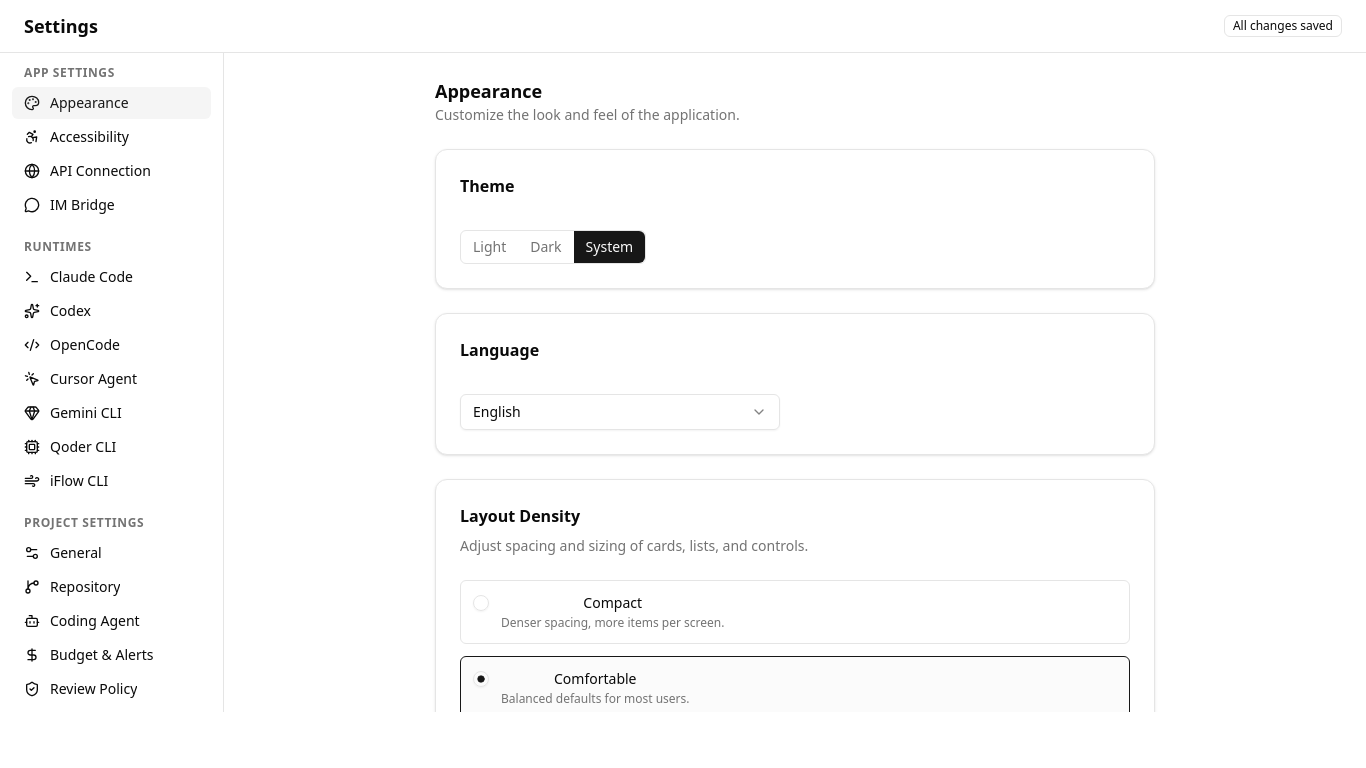
it: SettingsPage › blocks invalid threshold saves with validation feedback
Click the button "Budget & Alerts" at (112, 655), box [12,639,211,671]
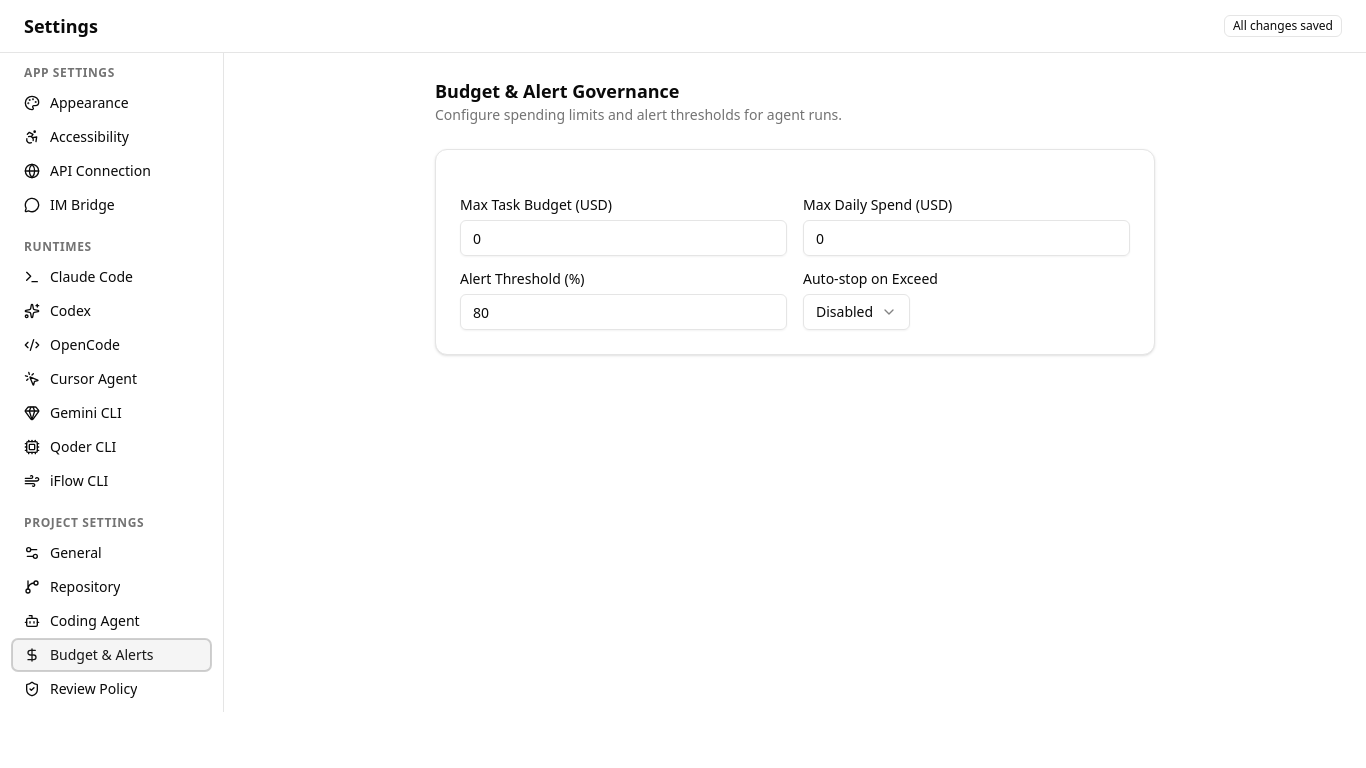
Replace the text in the number field labelled "Alert Threshold (%)" with "101" at (624, 312), box [460,294,787,330]
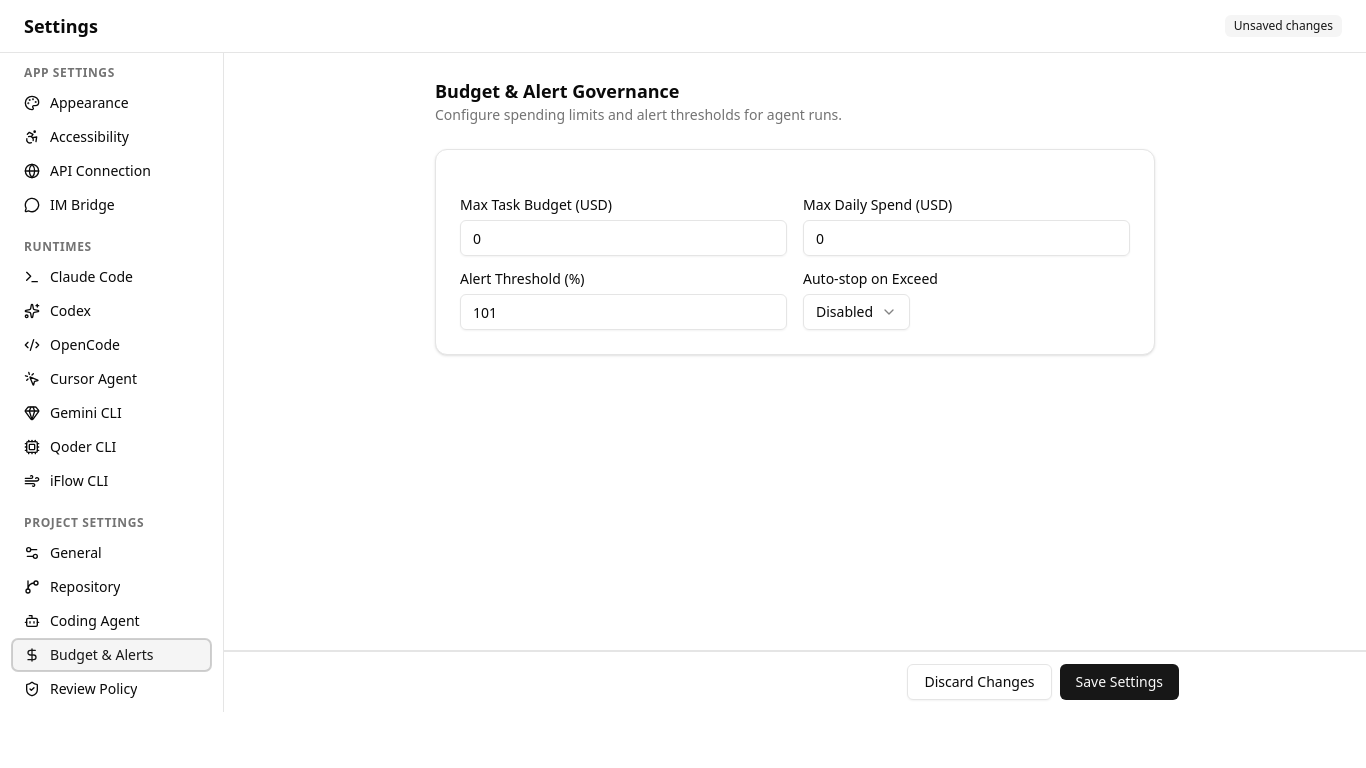
Click the button "Save Settings" at (1119, 682), box [1060,664,1179,700]
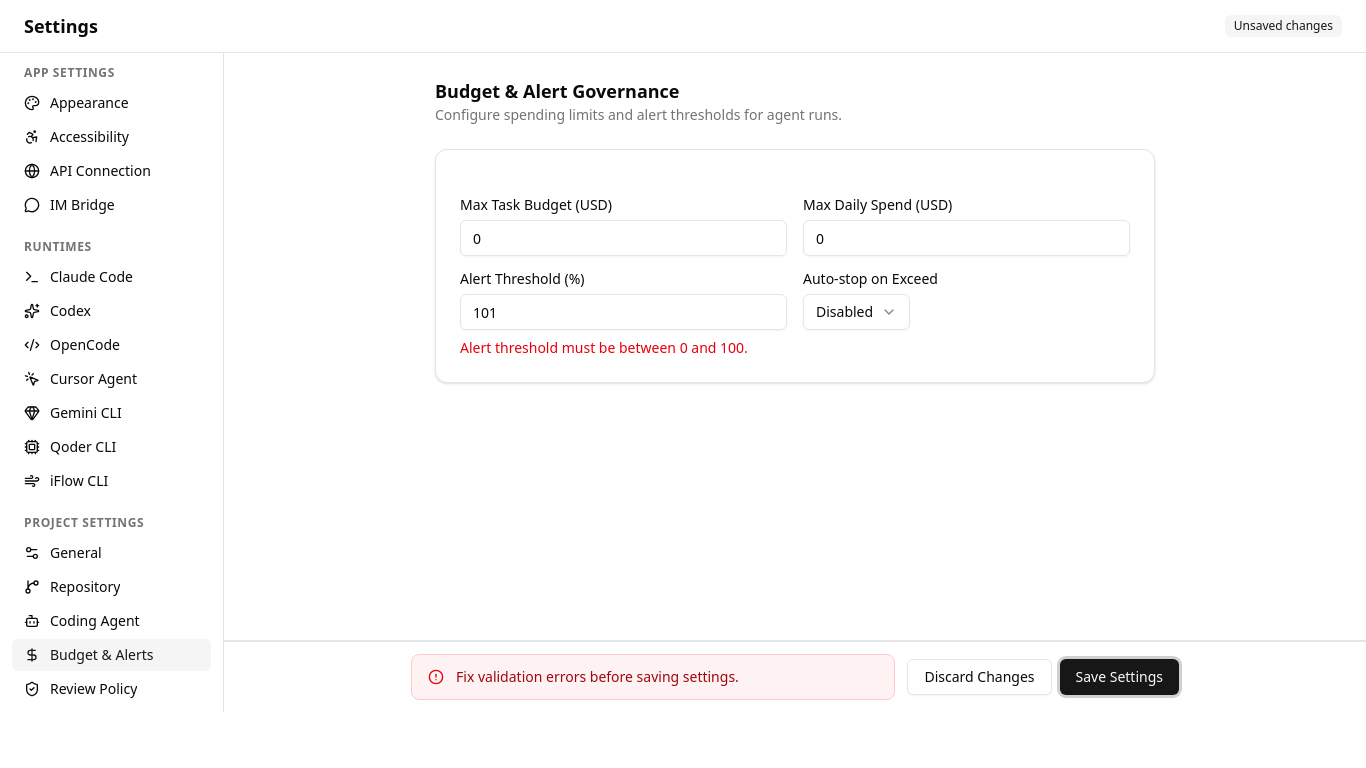
Now the text "Alert threshold must be between 0 and 100." is shown, box [460,338,787,358]
